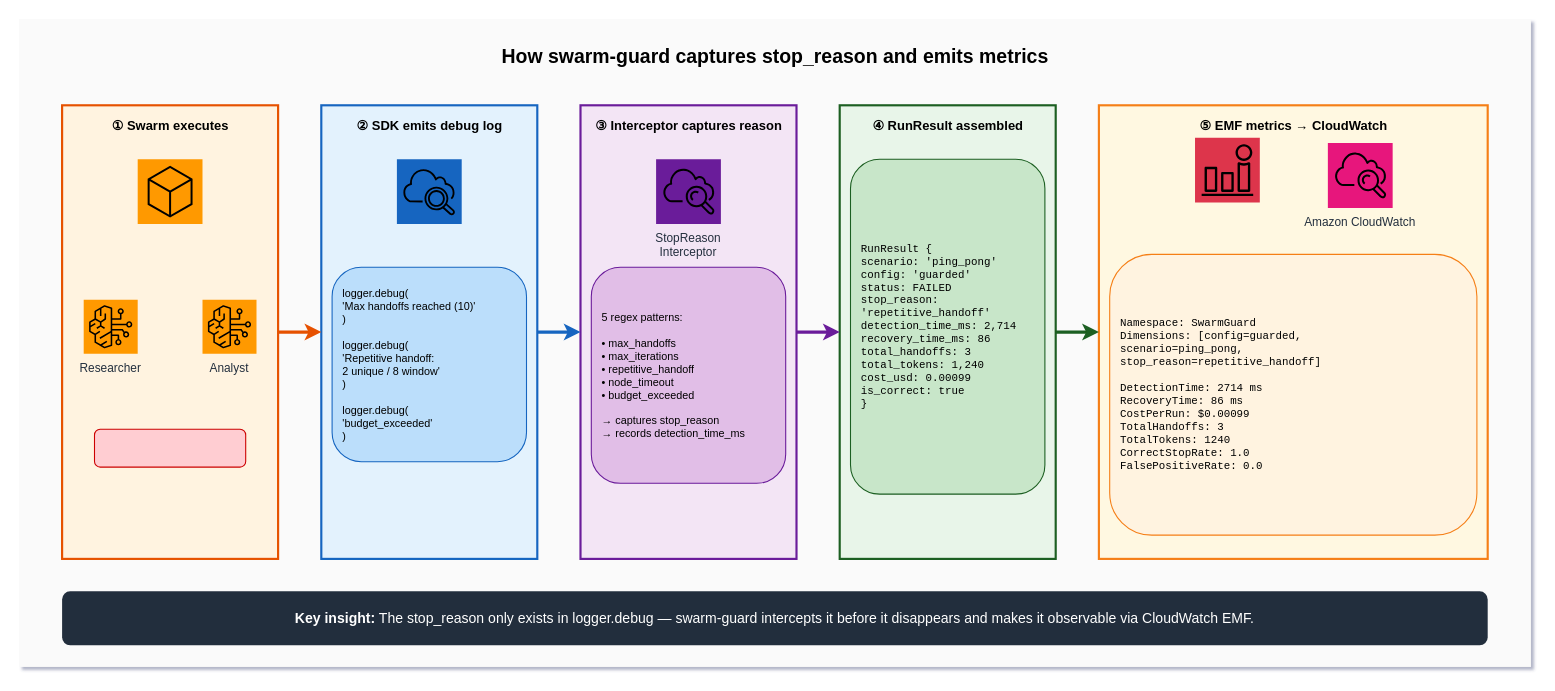
The diagram is 1555 pixels wide and 691 high, and some of its shapes have lost their labels. Each missing label, with the box of its shape:
Alarm CostPerRun > $5: (1194, 137, 1259, 202)
limit exceeded!: (93, 428, 246, 467)
logging.getLogger ('strands'): (396, 159, 461, 224)
Strands SDK multiagent.Swarm: (137, 159, 202, 224)
